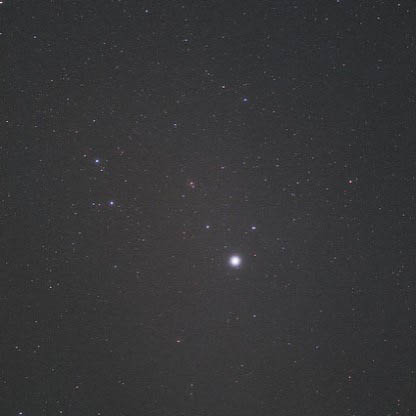Lyra: (224, 249, 248, 271), (182, 175, 199, 196), (197, 218, 217, 235), (104, 192, 120, 213), (244, 220, 261, 238), (90, 149, 105, 169)
